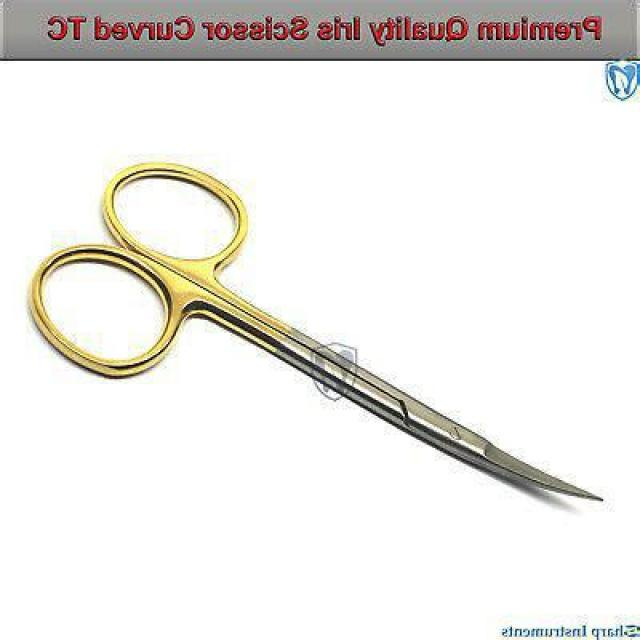Iris: (21, 155, 608, 509)
